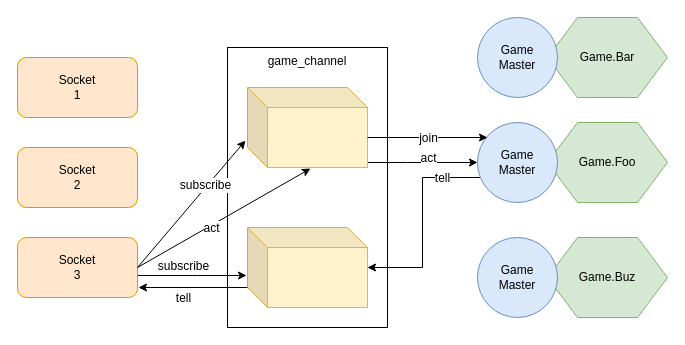
This 685x345 diagram has some shape labels left out. Here are the shapes that lost their labels. From the top down, the centre of each, then its label:
At point (307, 127): "game:foo".
At point (307, 267): "player:3".
